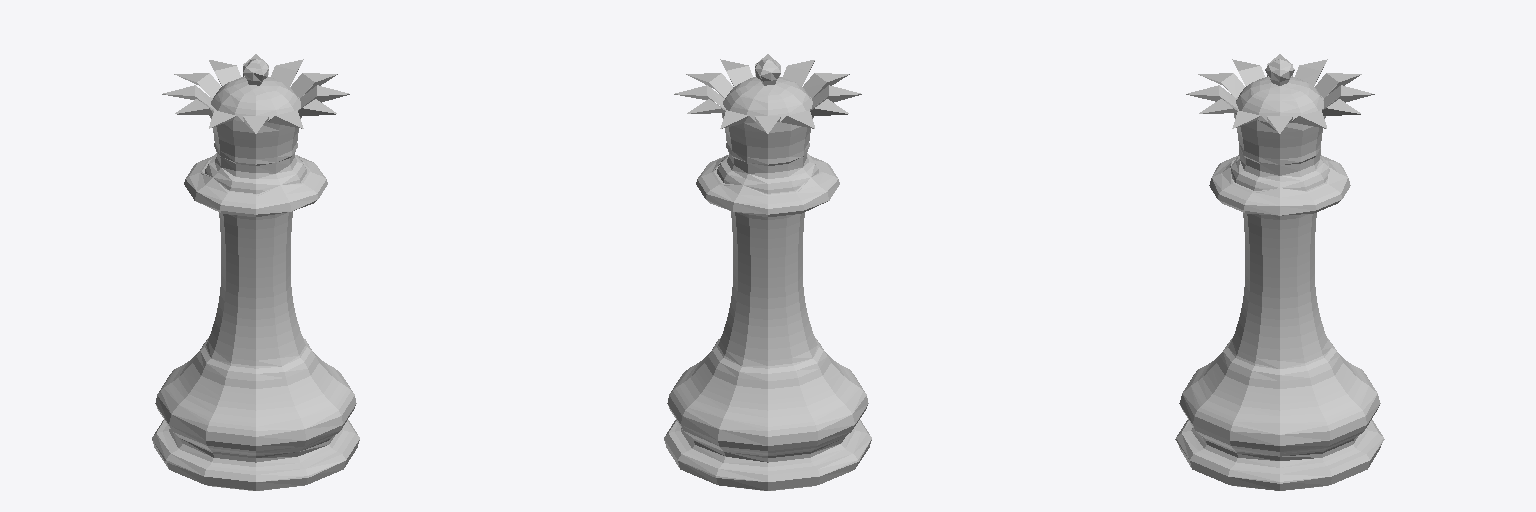
Rendered from Queen.obj.
3 renders of one model, left to right at view 1: azimuth 30°, elevation 25°; view 2: azimuth 150°, elevation 25°; view 3: azimuth 270°, elevation 25°, orthographic.
Bounding box in the file's own units: 14.93 × 30.9 × 14.93.